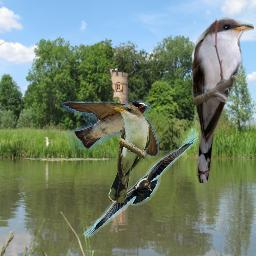Crow: (82, 128, 200, 238)
Cuckoo: (190, 17, 254, 183), (108, 105, 151, 203)
Swallow: (62, 101, 159, 157)
